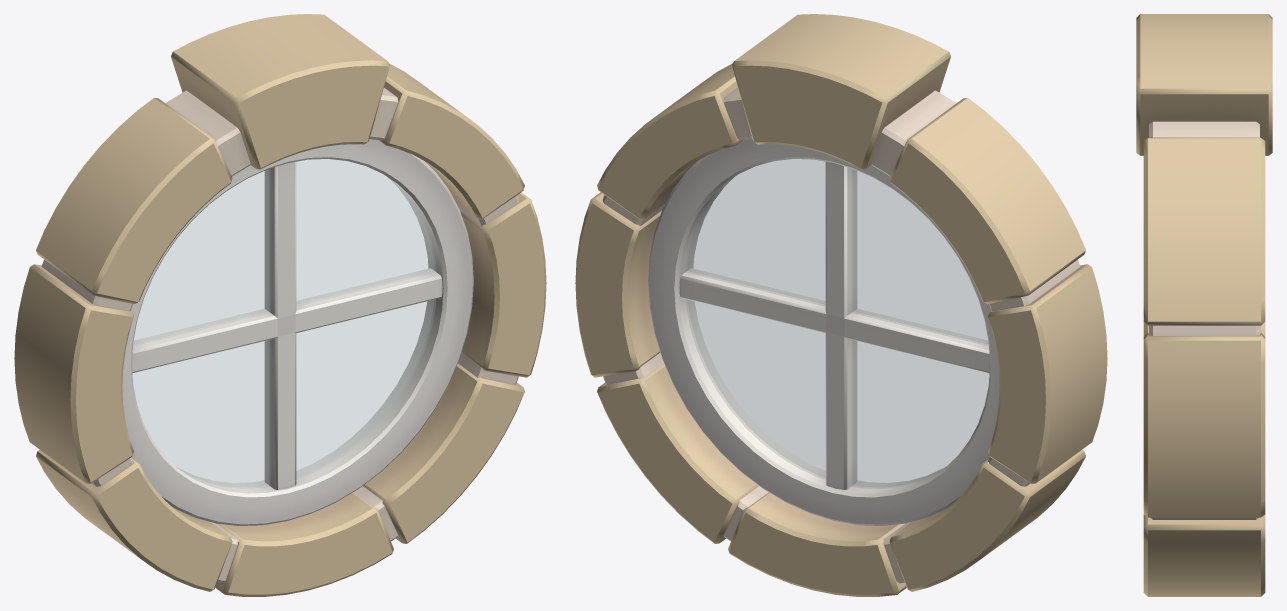
File: round-window.glb
3 views of the same model, side by side, from view 1: azimuth 30°, elevation 25°; view 2: azimuth 150°, elevation 25°; view 3: azimuth 270°, elevation 25° (orthographic).
Parts seen in each view (by area): view 1: round-window_body, round-window_glass; view 2: round-window_body, round-window_glass; view 3: round-window_body.
Part boxes in pixels (box(x1,y1,x2,y2)): round-window_body: box(14, 14, 546, 596); round-window_glass: box(133, 159, 435, 488); round-window_body: box(575, 14, 1107, 596); round-window_glass: box(686, 159, 988, 488); round-window_body: box(1136, 14, 1272, 596).
Size of the model in its own units: 1.1 by 1.16 by 0.27.
Materials: 2 (1 with a texture image).
